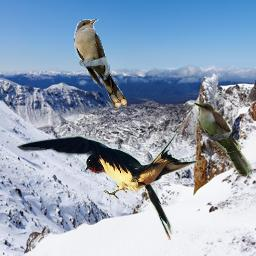Cuckoo: (74, 19, 127, 108), (193, 101, 252, 177)
Swallow: (13, 126, 231, 240)
